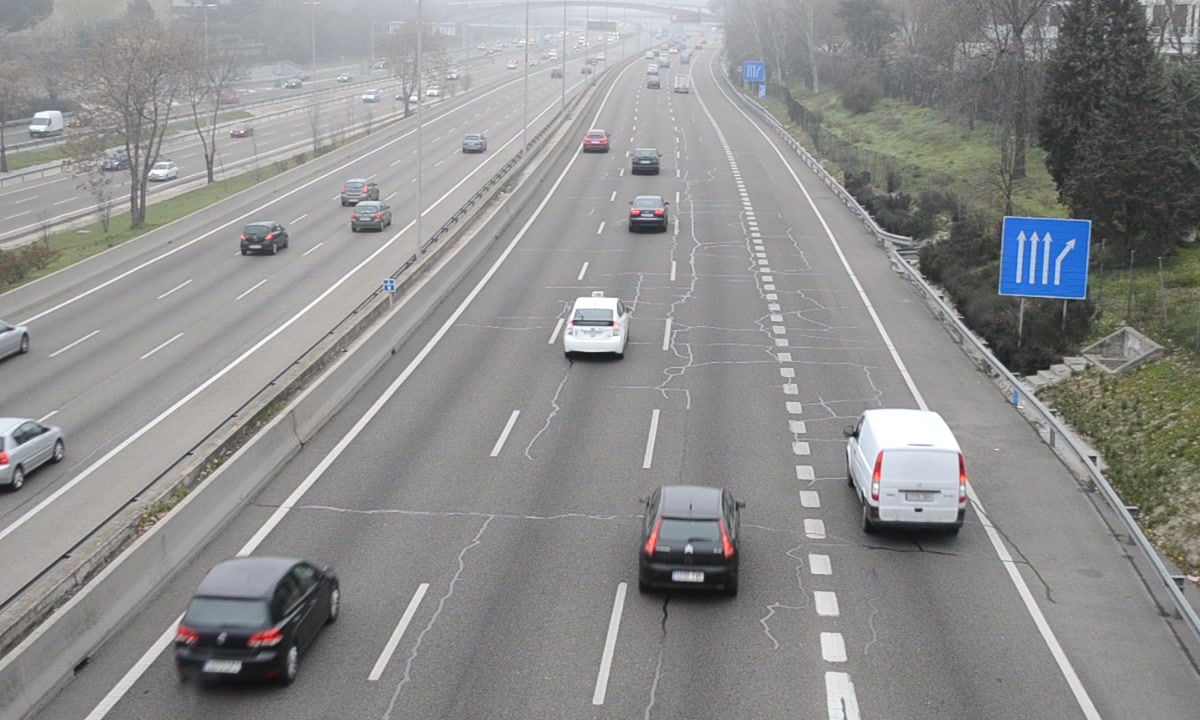car: (175, 558, 341, 684), (640, 484, 740, 595), (564, 297, 629, 355), (628, 194, 668, 234), (631, 147, 660, 177), (581, 129, 612, 153)
van: (848, 408, 966, 534)
